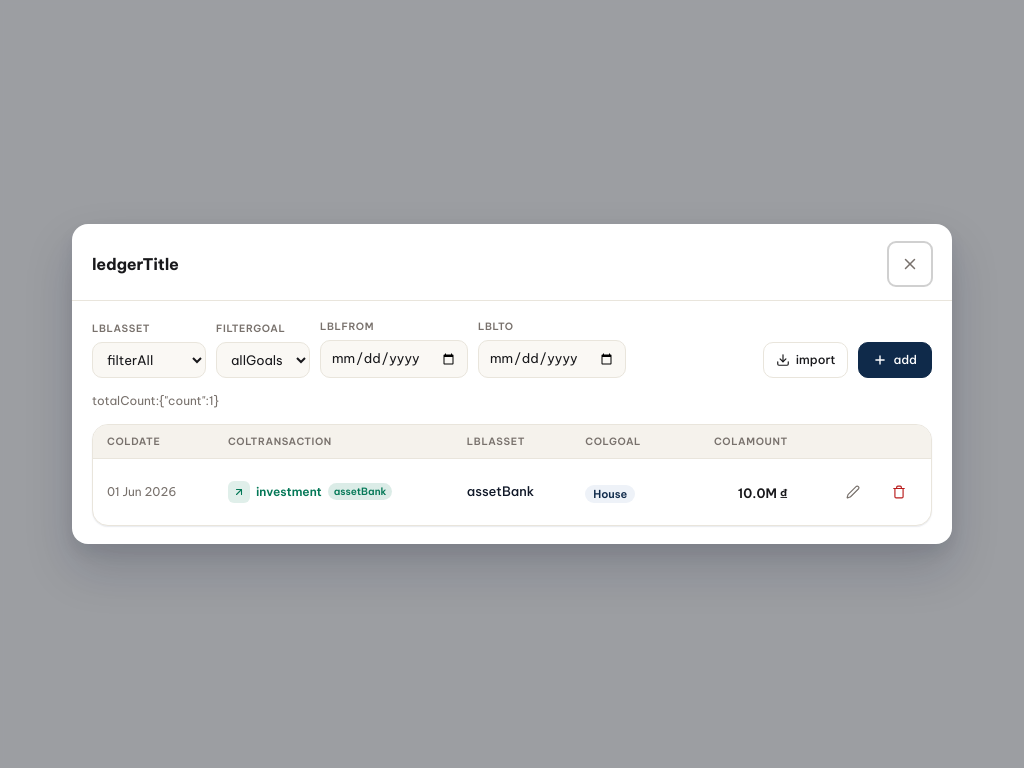
Test: TransactionLedgerSheet — a not_found delete reconciles the list › refetches and notifies the parent, so the stale row disappears
Click the button with test id "tx-ledger-delete". click: [899, 492]
box: left=877, top=470, right=921, bottom=514
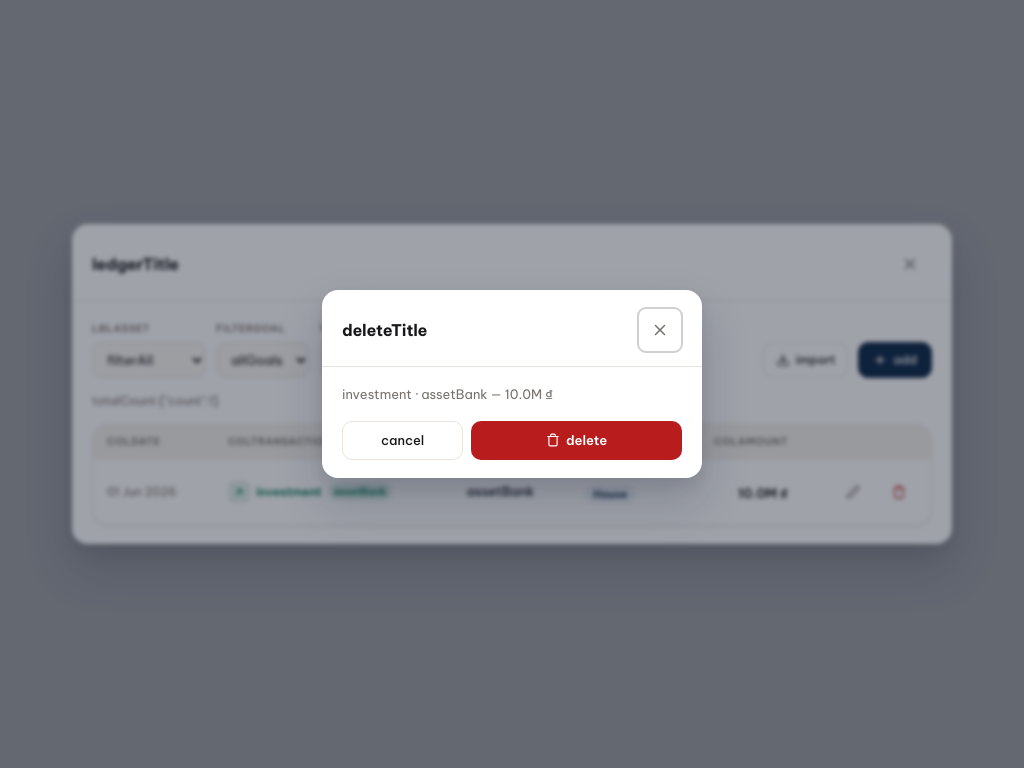
expect the button with test id "tx-ledger-delete-confirm" is enabled: met
Click the button with test id "tx-ledger-delete-confirm". click: [577, 440]
box: left=471, top=420, right=682, bottom=460
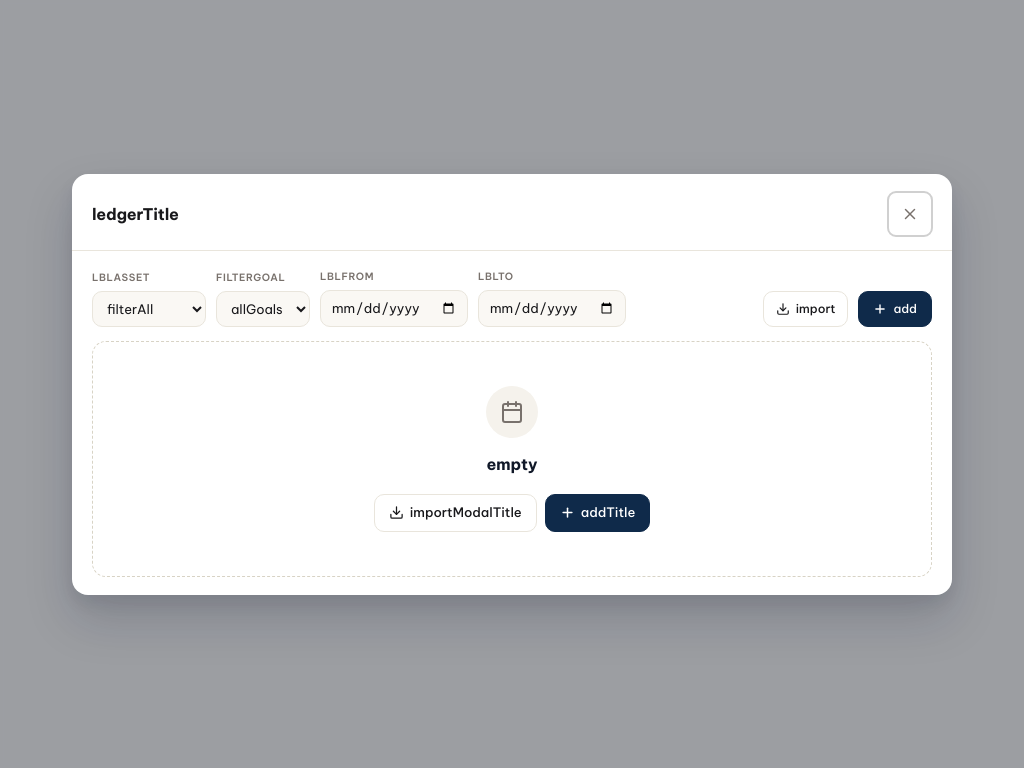
expect the button with test id "tx-ledger-delete" is gone: met
